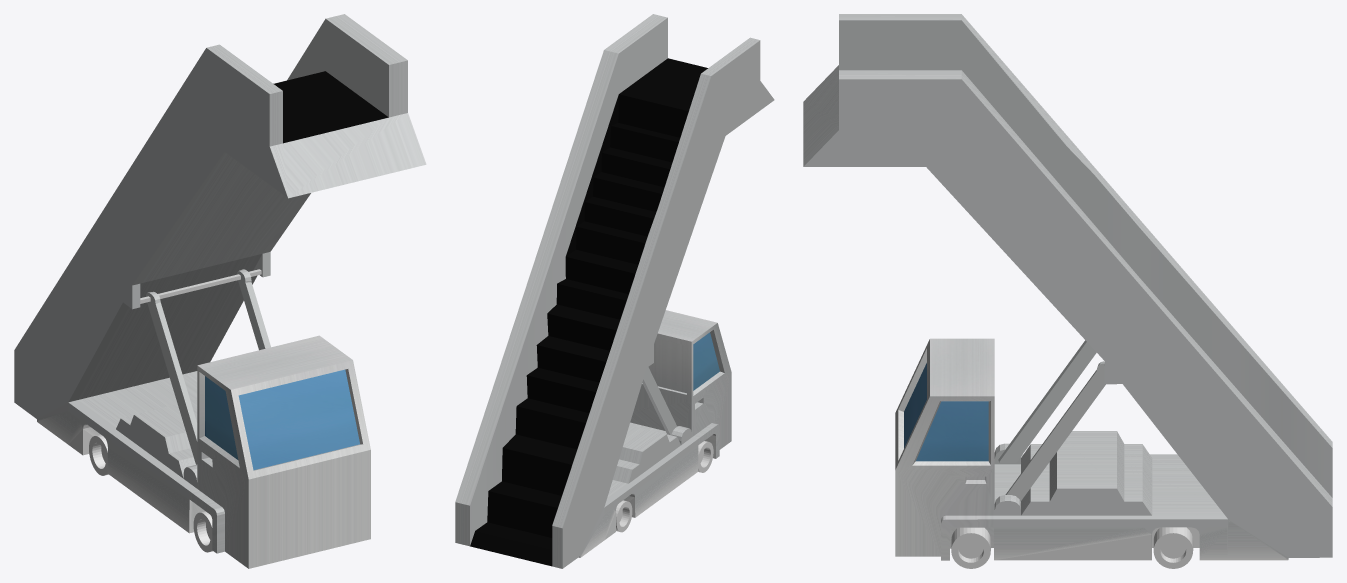
Rendered from Passenger boarding stairs 1.fbx.
The picture shows the model from 3 angles, left to right: view 1: azimuth 30°, elevation 25°; view 2: azimuth 150°, elevation 25°; view 3: azimuth 270°, elevation 25°; orthographic projection. The views are drawn at different scales.
Parts seen in each view (by area): view 1: Cube, Cylinder.001, Cylinder.003; view 2: Cube, Cylinder.003, Cylinder.001; view 3: Cube, Cylinder.002, Cylinder.
Part boxes in pixels (x1,y1,x2,y2): Cube: (14,14,426,568); Cylinder.001: (193,511,212,552); Cylinder.003: (89,434,108,475); Cube: (455,14,774,568); Cylinder.003: (616,500,632,532); Cylinder.001: (698,441,713,472); Cube: (803,14,1332,560); Cylinder.002: (1153,527,1193,568); Cylinder: (951,527,990,568).
Bounding box in the file's own units: 438 × 1533 × 1499.
